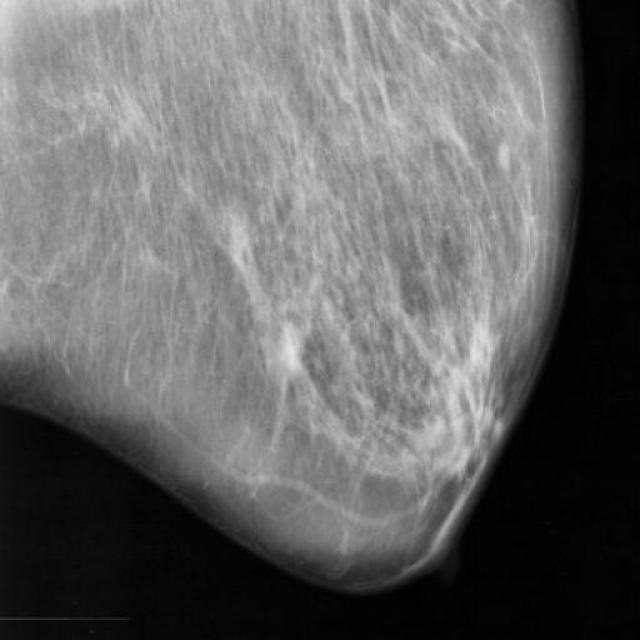cancer: (268, 308, 321, 402)
